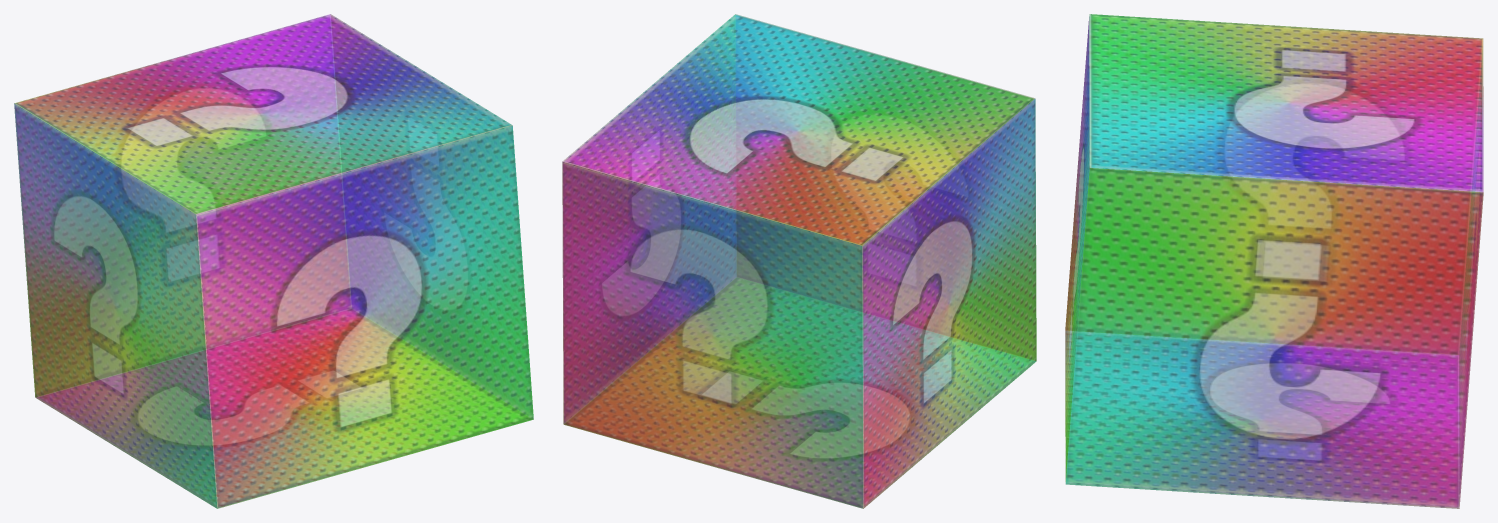
File: crate-steel-lod0.glb
The picture shows the model from 3 angles, left to right: view 1: azimuth 30°, elevation 25°; view 2: azimuth 150°, elevation 25°; view 3: azimuth 270°, elevation 25°; orthographic projection. The views are drawn at different scales.
Parts seen in each view (by area): view 1: Object_2; view 2: Object_2; view 3: Object_2.
Boxes of the visible parts, left/top/right/bottom form: Object_2: left=14, top=14, right=533, bottom=508; Object_2: left=562, top=14, right=1036, bottom=508; Object_2: left=1065, top=14, right=1483, bottom=508.
Bounding box in the file's own units: 2.07 × 1.95 × 2.13.
Materials: 1 (1 with a texture image).
